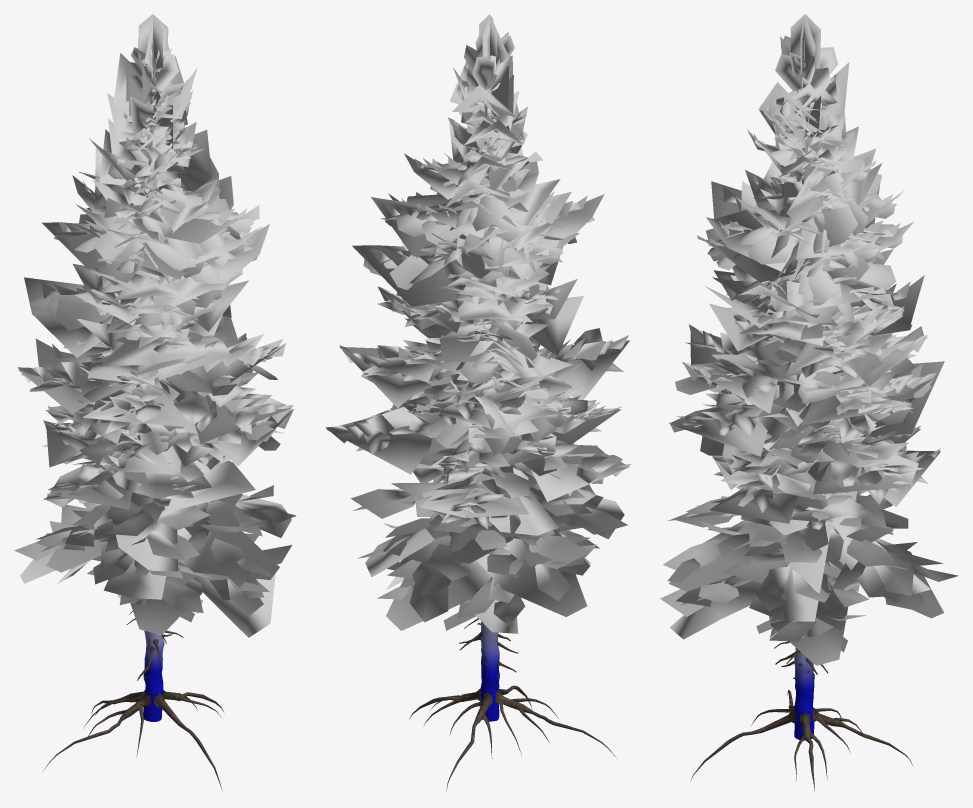
Rendered from Tree1_LOD0.fbx.
The picture shows the model from 3 angles, left to right: view 1: azimuth 30°, elevation 25°; view 2: azimuth 150°, elevation 25°; view 3: azimuth 270°, elevation 25°; orthographic projection. The views are drawn at different scales.
Visible parts, largest first — view 1: polySurface158; view 2: polySurface158; view 3: polySurface158.
Part boxes in pixels (x1,y1,x2,y2): polySurface158: [14, 14, 296, 791]; polySurface158: [325, 14, 631, 790]; polySurface158: [660, 14, 958, 790].
Size of the model in its own units: 717 by 1988 by 706.
